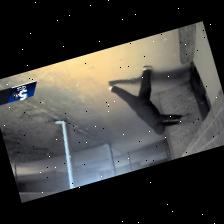person: (108, 65, 187, 134)
